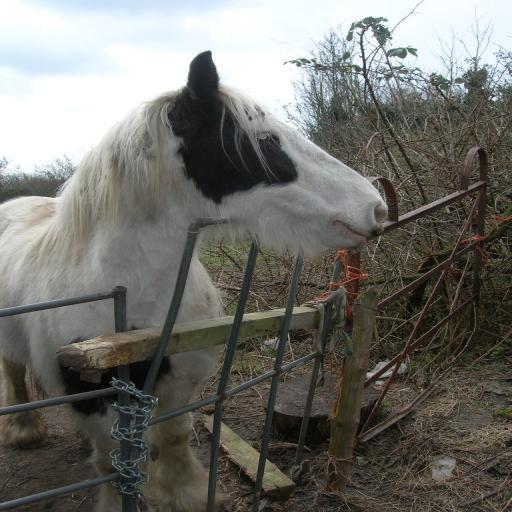horse: (0, 47, 393, 512)
